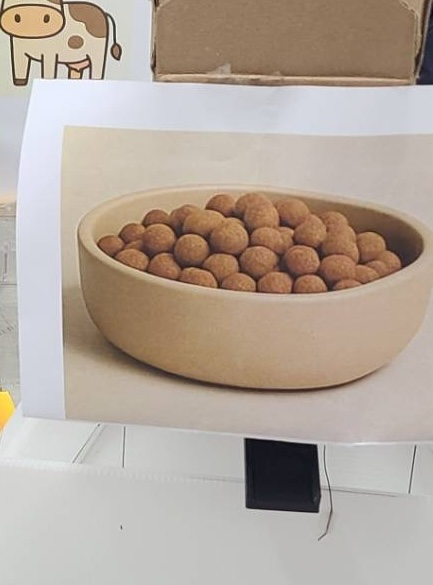machine: (77, 184, 433, 398)
